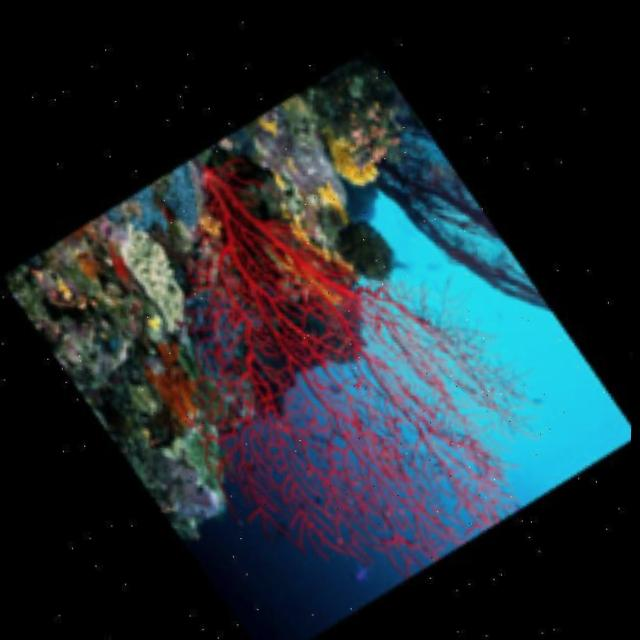Healthy Coral: (168, 125, 526, 595)
